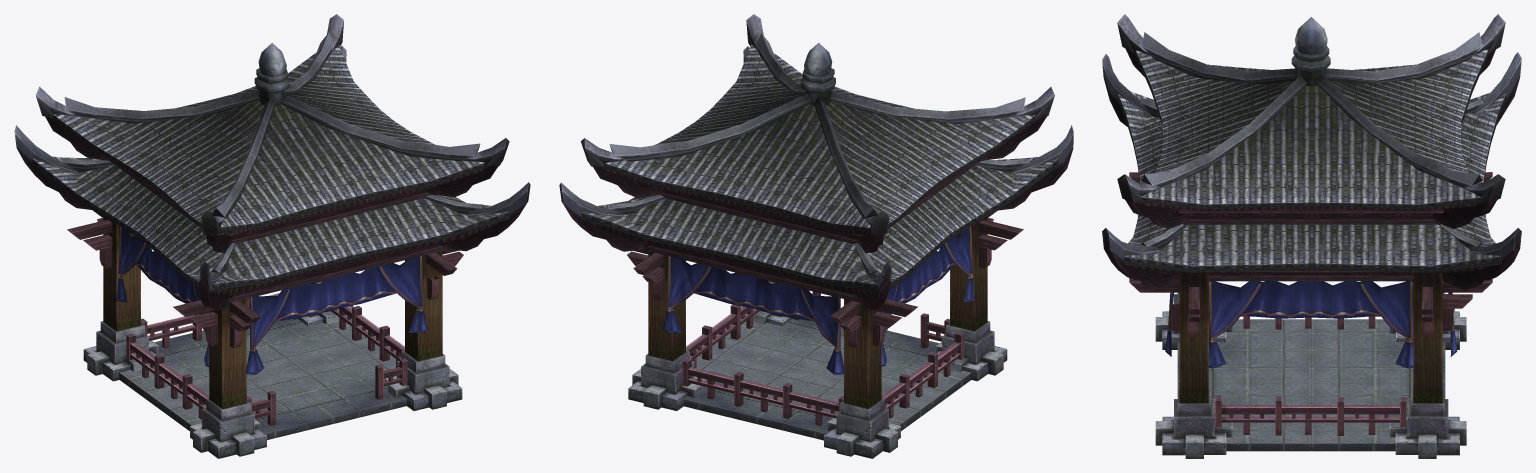
Rendered from xcz_jz_09.FBX.
3 views of the same model, side by side, from view 1: azimuth 30°, elevation 25°; view 2: azimuth 150°, elevation 25°; view 3: azimuth 270°, elevation 25° (orthographic). The views are drawn at different scales.
Parts seen in each view (by area): view 1: XCZ_jz_09; view 2: XCZ_jz_09; view 3: XCZ_jz_09.
Part boxes in pixels (x1,y1,x2,y2): XCZ_jz_09: (14,14,530,458); XCZ_jz_09: (559,14,1073,458); XCZ_jz_09: (1102,14,1521,458).
Size of the model in its own units: 1685 by 1635 by 1670.
